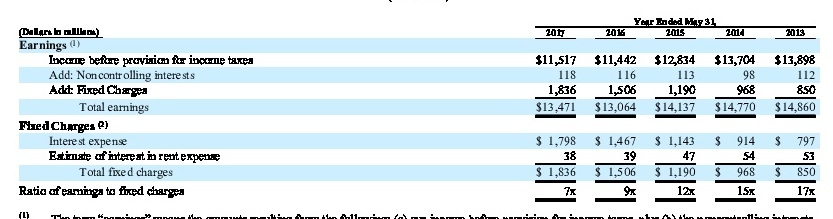table: (0, 0, 833, 219)
